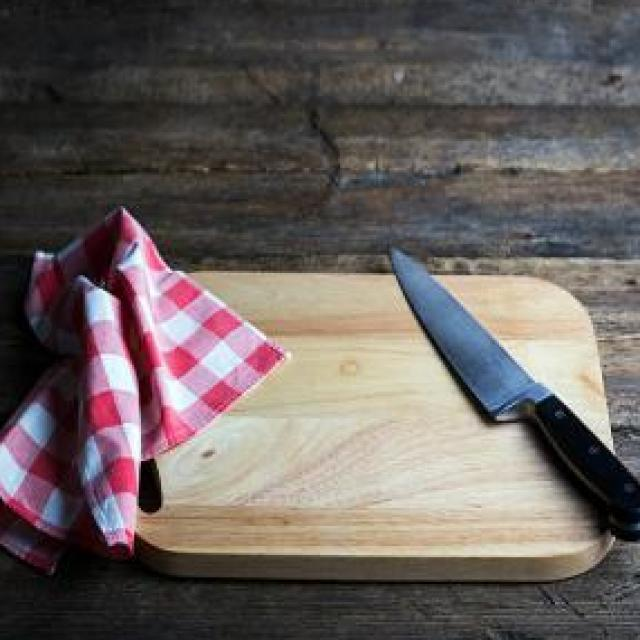knife: (385, 242, 640, 546)
